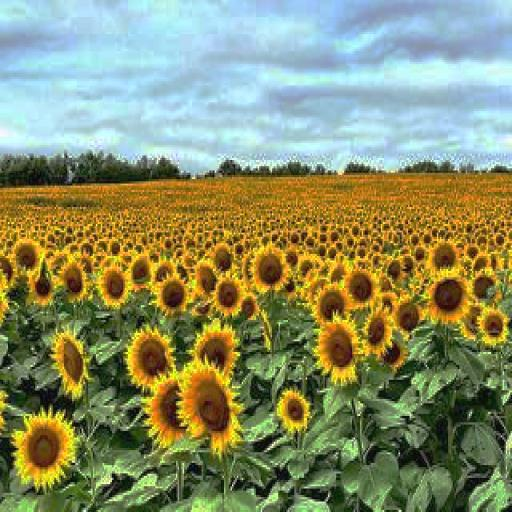sunflower: (178, 362, 244, 458), (13, 405, 78, 493), (141, 371, 197, 452), (314, 316, 364, 386), (190, 320, 240, 380), (51, 328, 93, 399), (125, 324, 171, 386), (428, 271, 470, 326), (251, 243, 288, 297), (312, 282, 354, 326), (277, 386, 312, 437), (342, 265, 381, 307), (99, 264, 133, 312), (152, 275, 190, 314), (11, 234, 42, 280), (363, 312, 394, 358), (59, 258, 91, 301), (390, 296, 424, 333), (210, 275, 242, 314), (427, 241, 461, 277), (194, 262, 218, 301), (208, 243, 235, 273)
